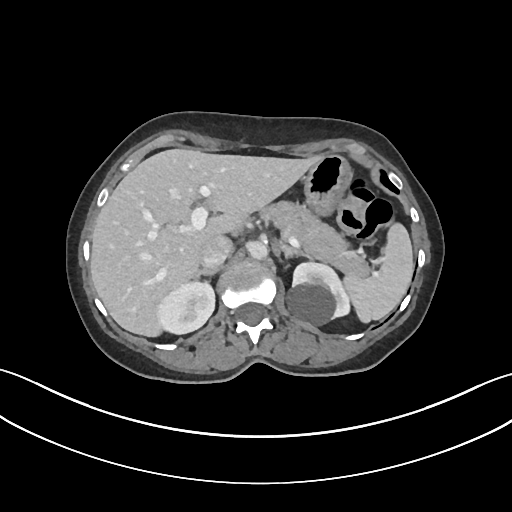Lesion: (281, 282, 340, 331)
